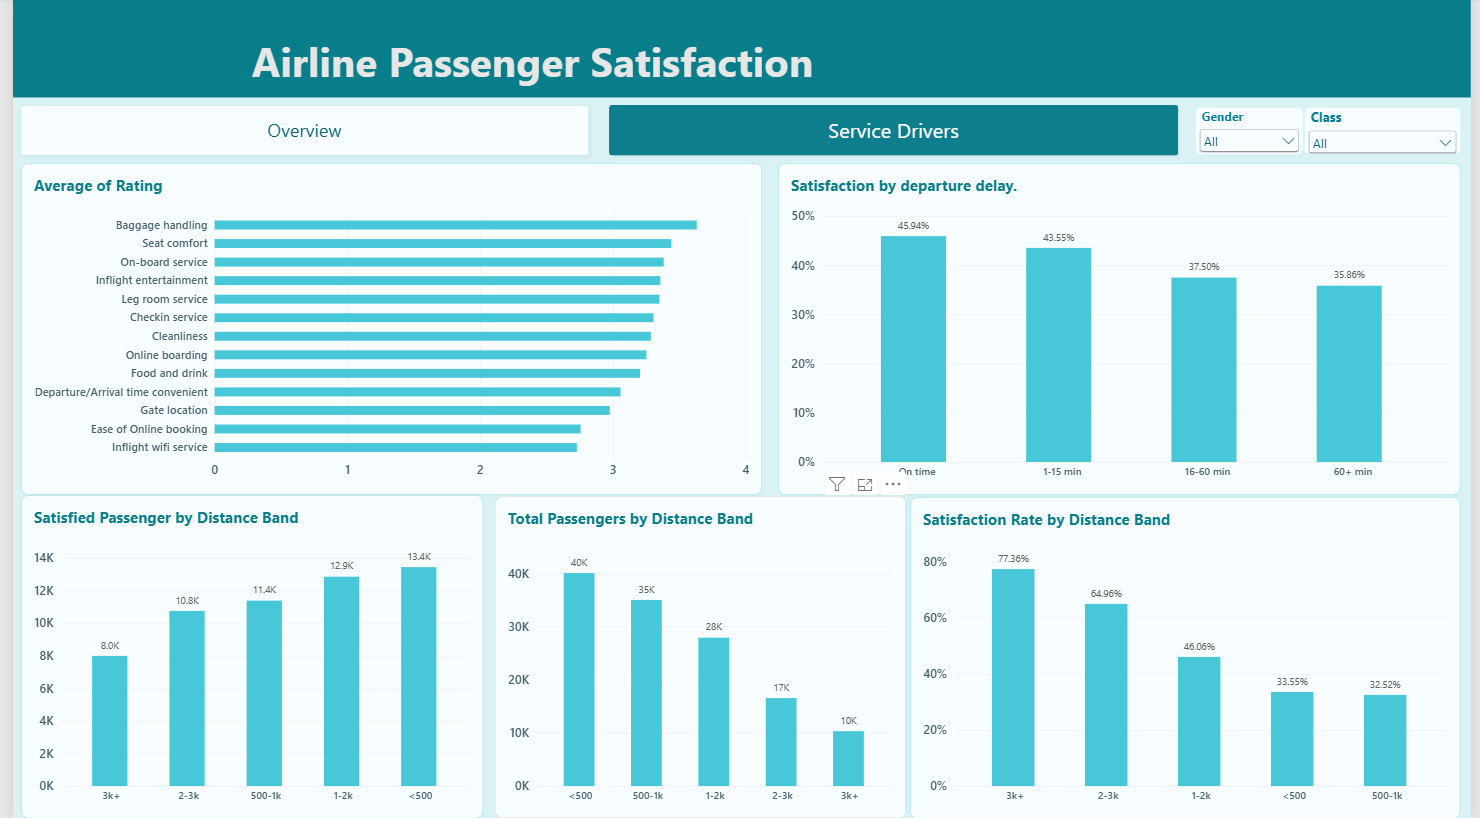

Layout of this report page (visuals, bound fields, positions):
{"tool":"powerbi","page":{"name":"Service Drivers","canvas":[1920,1080],"ordinal":1},"visuals":[{"type":"shape","box":[0,0,1920,131.1],"z":0},{"type":"clusteredBarChart","title":"Average of Rating","fields":{"Category":["services.services"],"Y":["Avg(services.Rate)"]},"box":[10.5,217.1,976.3,436.8],"z":1000},{"type":"clusteredColumnChart","title":"Satisfaction by departure delay.","fields":{"Category":["data.Delay Band"],"Y":["data.Satisfaction Rate"]},"box":[1007.9,217.1,898.7,436.8],"z":2000},{"type":"textbox","box":[315.3,45.7,1180.3,170.9],"z":3000},{"type":"pageNavigator","box":[0,131.6,1544.7,85.5],"z":4000},{"type":"columnChart","fields":{"Category":["data.Distance Band"],"Y":["data.Satisfied Passenger"]},"box":[10.5,653.9,609.2,426.3],"z":5000},{"type":"columnChart","fields":{"Category":["data.Distance Band"],"Y":["data.Satisfaction Rate"]},"box":[1181.6,656.6,725,423.7],"z":6000},{"type":"columnChart","fields":{"Category":["data.Distance Band"],"Y":["data.Total Passengers"]},"box":[634.2,655.3,542.1,425],"z":7000},{"type":"slicer","fields":{"Values":["data.Gender"]},"box":[1556.6,143.4,143.4,63.2],"z":8000},{"type":"slicer","fields":{"Values":["services.Class"]},"box":[1700,143.4,206.6,63.2],"z":8001}]}

Visuals, with their boxes in screenshot pixels (x1, y1, x2, y2), scaled from the page's 1920x1080 canvas onto the 1480x818 screenshot:
shape: <bbox>0, 0, 1479, 99</bbox>
"Average of Rating" clusteredBarChart: <bbox>8, 164, 761, 495</bbox>
"Satisfaction by departure delay." clusteredColumnChart: <bbox>777, 164, 1470, 495</bbox>
textbox: <bbox>243, 35, 1153, 164</bbox>
pageNavigator: <bbox>0, 100, 1191, 164</bbox>
columnChart - data.Distance Band x data.Satisfied Passenger: <bbox>8, 495, 478, 817</bbox>
columnChart - data.Distance Band x data.Satisfaction Rate: <bbox>911, 497, 1470, 817</bbox>
columnChart - data.Distance Band x data.Total Passengers: <bbox>489, 496, 907, 817</bbox>
slicer - data.Gender: <bbox>1200, 109, 1310, 156</bbox>
slicer - services.Class: <bbox>1310, 109, 1470, 156</bbox>
